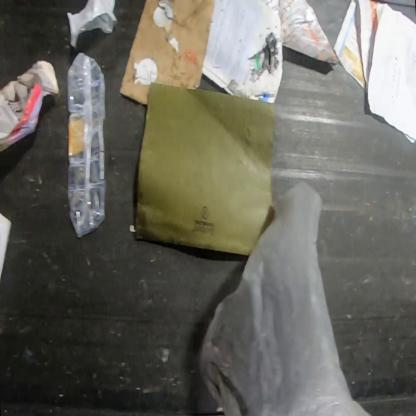cardboard: (135, 82, 275, 258), (118, 0, 215, 106)
rigid_plastic: (67, 51, 106, 239)
soft_plastic: (194, 179, 371, 415)
